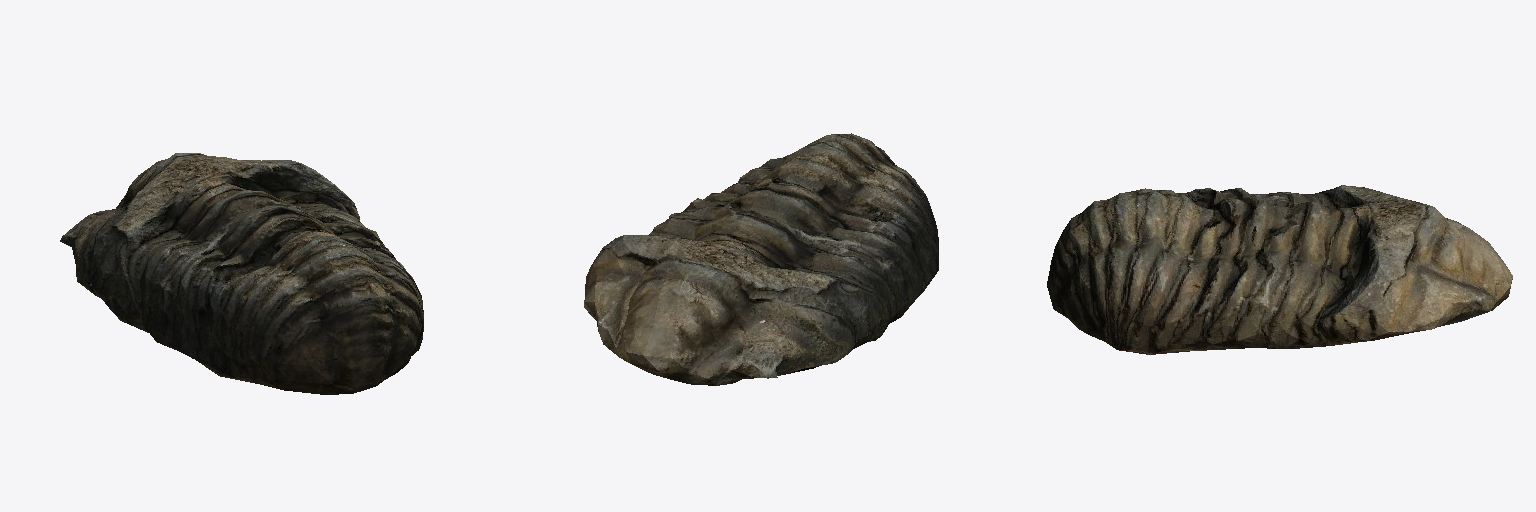
3 views of the same model, side by side, from view 1: azimuth 30°, elevation 25°; view 2: azimuth 150°, elevation 25°; view 3: azimuth 270°, elevation 25° (orthographic).
Visible parts, largest first — view 1: trilobite; view 2: trilobite; view 3: trilobite.
Boxes of the visible parts, x1,y1,x2,y2 form: trilobite: [60, 153, 423, 394]; trilobite: [584, 133, 938, 385]; trilobite: [1047, 185, 1512, 354].
Size of the model in its own units: 0.0637 by 0.0293 by 0.0993.
1 materials, 1 textured.